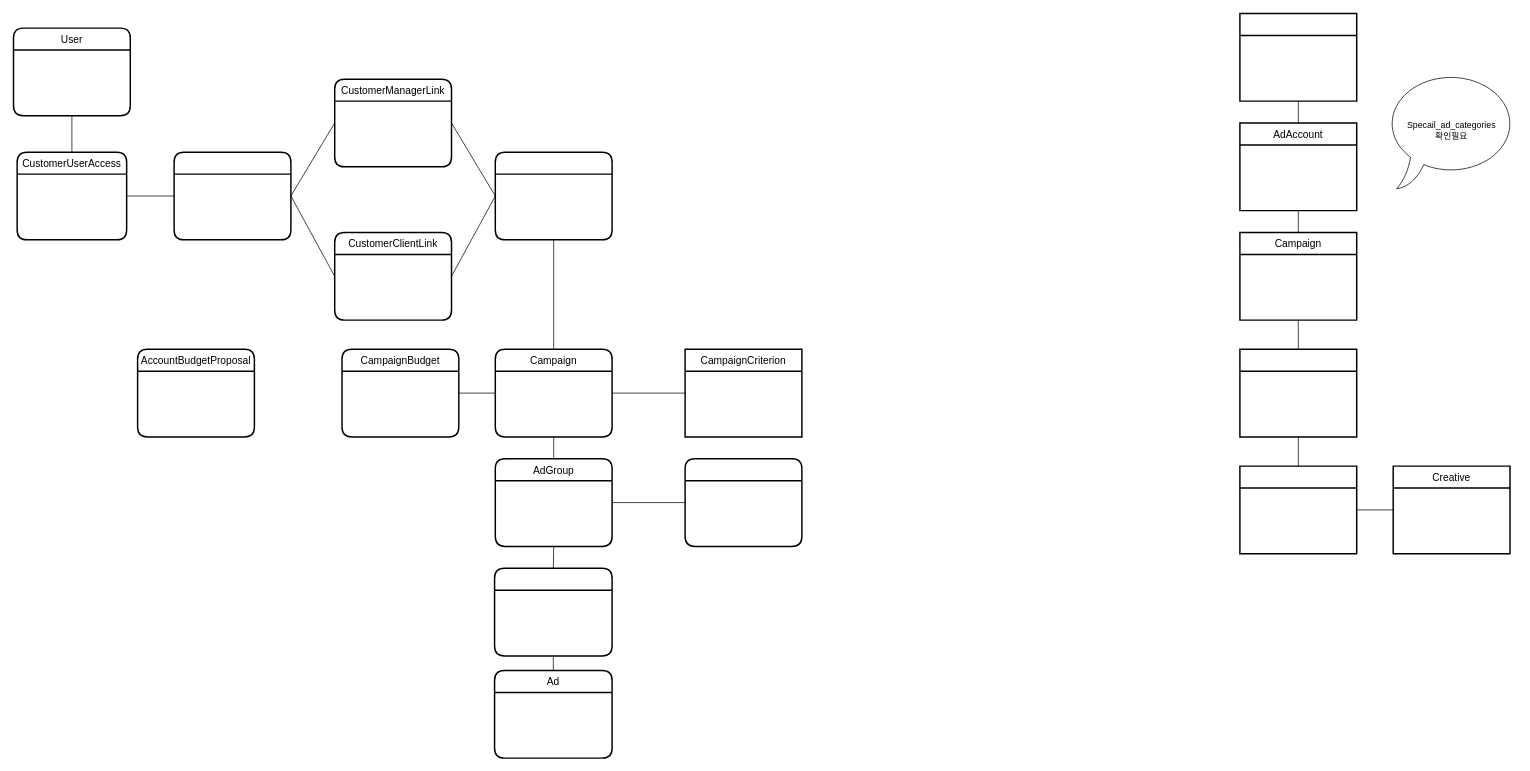
This 1530x771 diagram has some shape labels left out. Each missing label, with the box of its shape:
AdGroupAd: (493, 567, 612, 656)
AdGroupCriterion: (684, 458, 802, 547)
Ads: (1239, 465, 1357, 554)
AdSet: (1239, 348, 1357, 437)
Business: (1239, 12, 1357, 101)
Customer: (173, 151, 291, 240)
CustomerClient: (494, 151, 612, 240)
